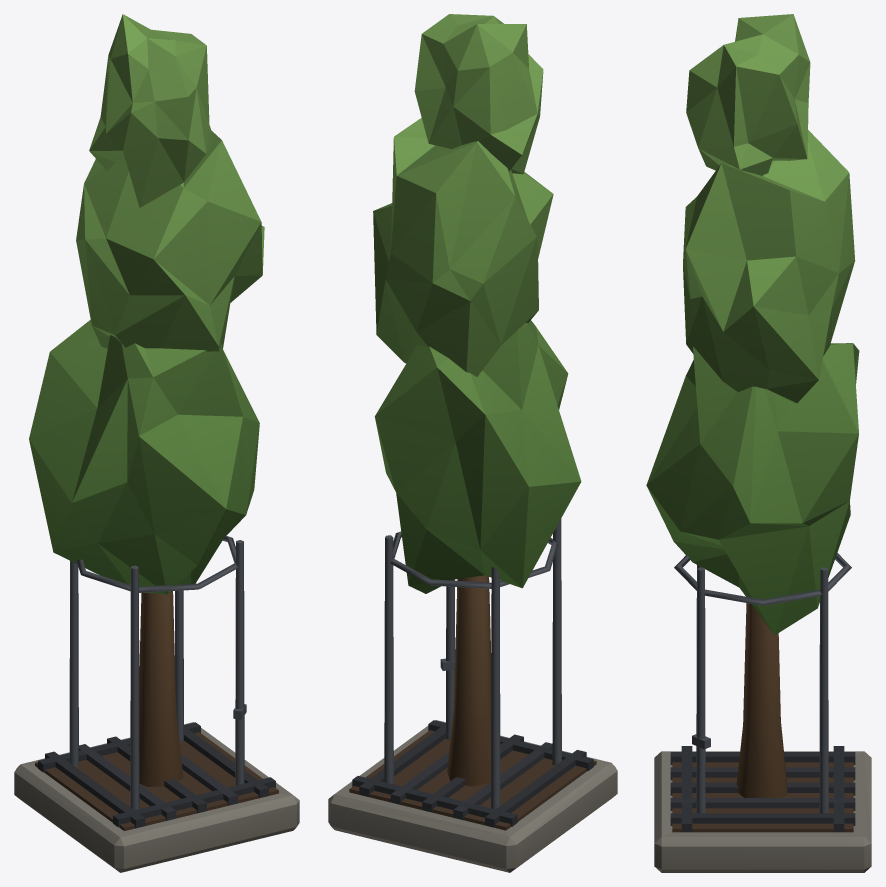
File: columnar_street_tree_01.glb
3 renders of one model, left to right at view 1: azimuth 30°, elevation 25°; view 2: azimuth 150°, elevation 25°; view 3: azimuth 270°, elevation 25°, orthographic.
Parts seen in each view (by area): view 1: columnar_street_tree_01; view 2: columnar_street_tree_01; view 3: columnar_street_tree_01.
Boxes of the visible parts, box(x1,y1,x2,y2) form: columnar_street_tree_01: box(14, 14, 299, 872); columnar_street_tree_01: box(328, 14, 617, 872); columnar_street_tree_01: box(646, 14, 871, 872).
Bounding box in the file's own units: 1.29 × 4.92 × 1.24.
